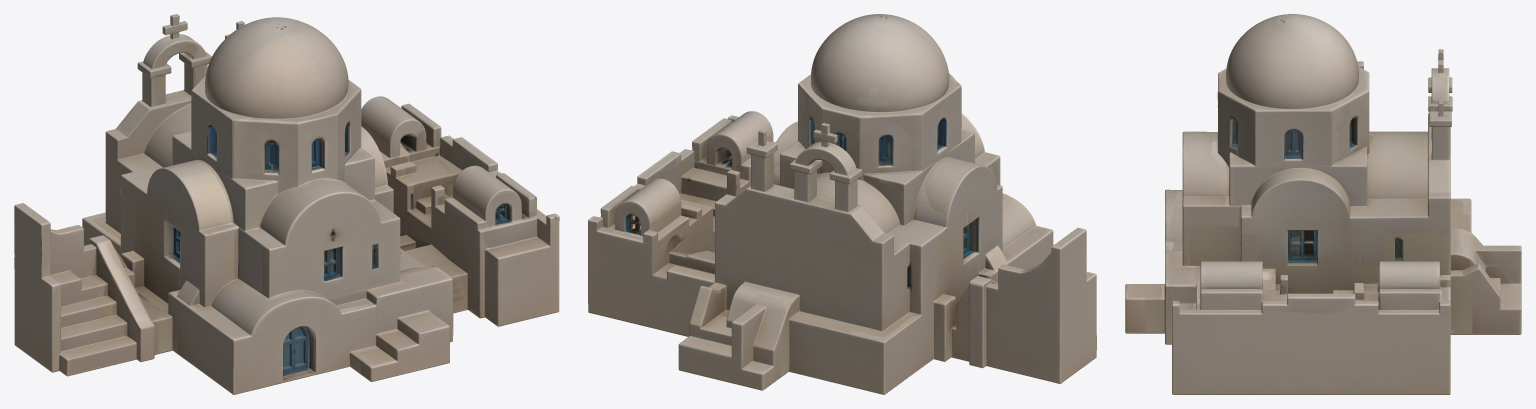
Rendered from Meshy_AI__1017055922_texture.fbx.
3 views of the same model, side by side, from view 1: azimuth 30°, elevation 25°; view 2: azimuth 150°, elevation 25°; view 3: azimuth 270°, elevation 25° (orthographic). The views are drawn at different scales.
Parts seen in each view (by area): view 1: Mesh_0; view 2: Mesh_0; view 3: Mesh_0.
Part boxes in pixels (x1,y1,x2,y2): Mesh_0: (14, 14, 559, 394); Mesh_0: (588, 14, 1096, 394); Mesh_0: (1125, 14, 1521, 394).
Size of the model in its own units: 200 by 127 by 165.
Materials: 1 (1 with a texture image).
